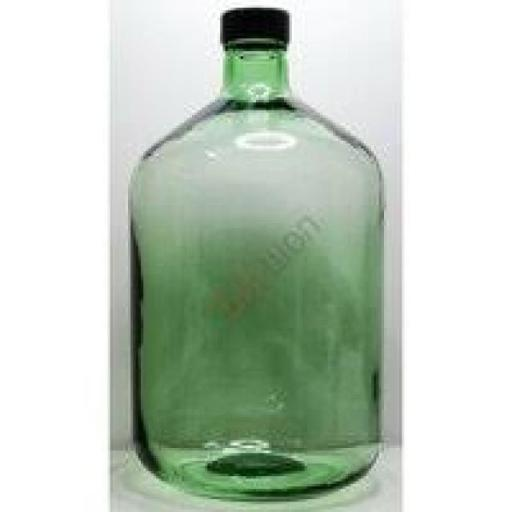glass: (114, 4, 402, 512)
